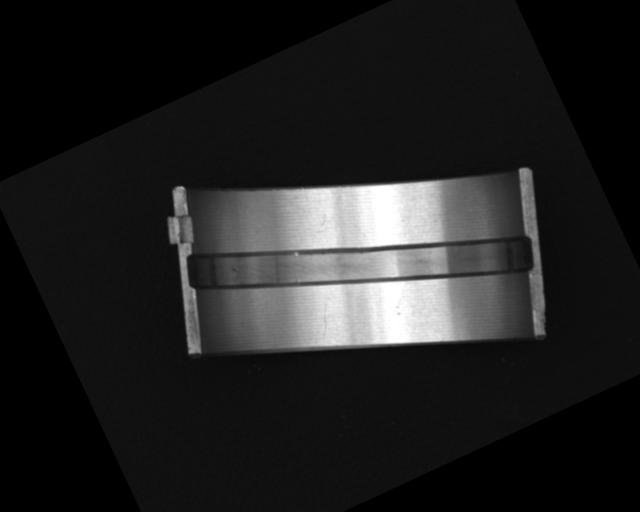gap: (179, 123, 542, 402)
nick: (310, 302, 339, 338)
